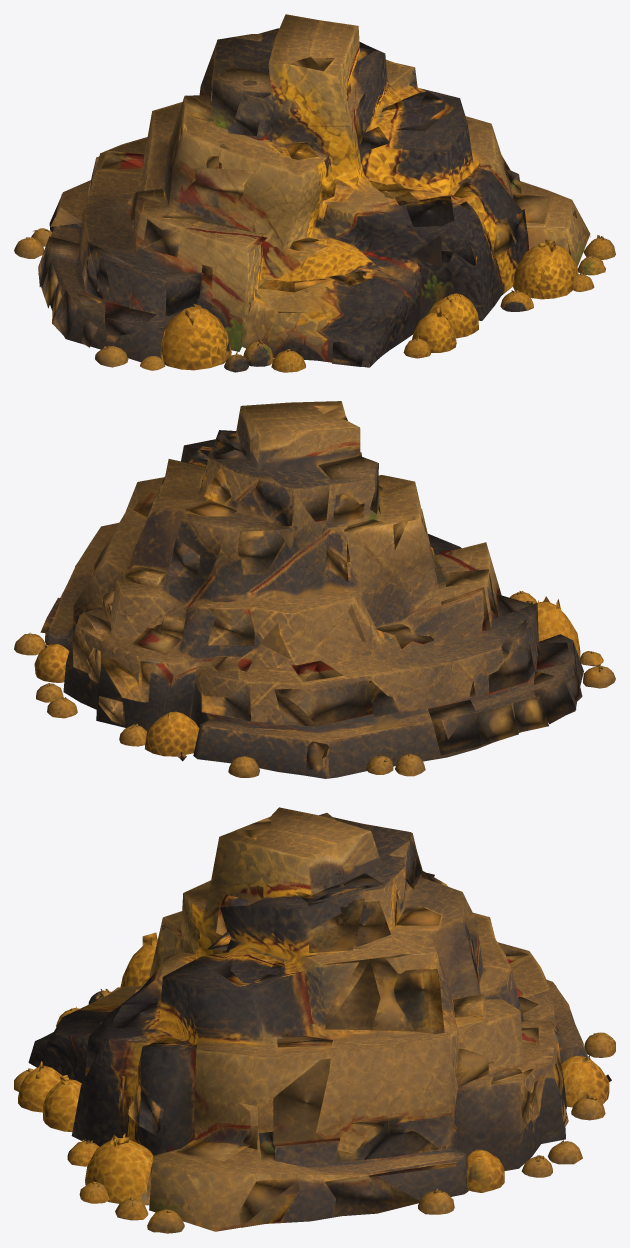
Rendered from GoldMineUnit.glb.
The picture shows the model from 3 angles, top to bottom: view 1: azimuth 30°, elevation 25°; view 2: azimuth 150°, elevation 25°; view 3: azimuth 270°, elevation 25°; orthographic projection. The views are drawn at different scales.
Bounding box in the file's own units: 1 × 0.4443 × 0.8965.
Materials: 1 (1 with a texture image).
